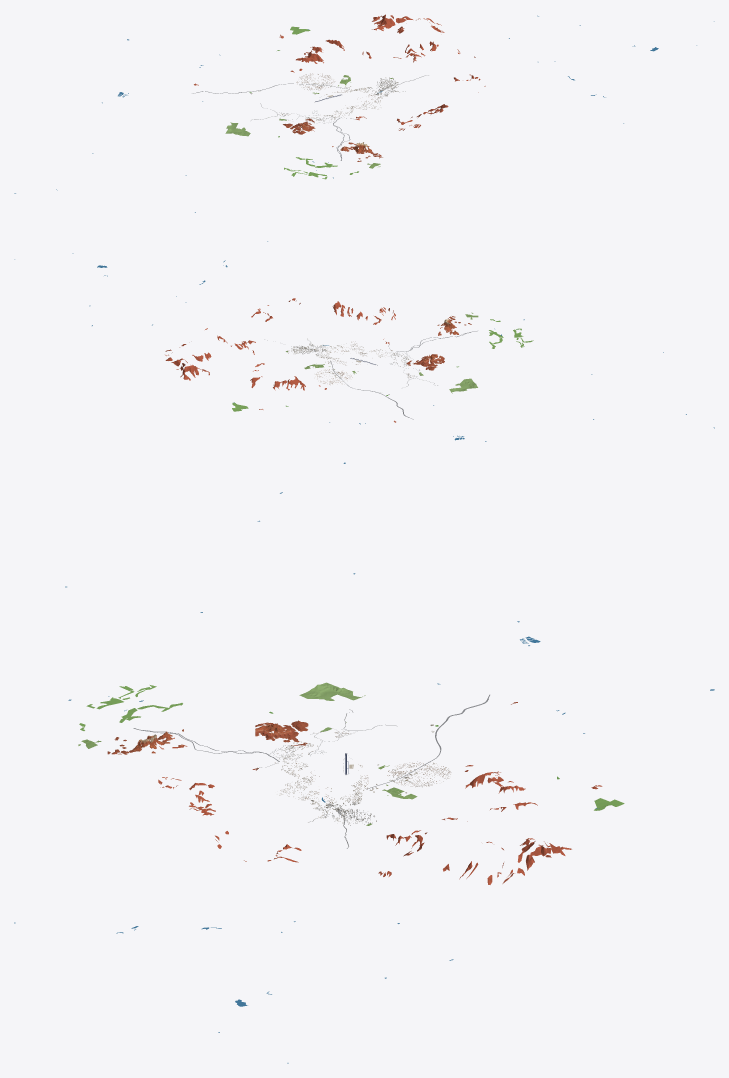
The model's file is land.glb.
3 views of the same model, one above another, from view 1: azimuth 30°, elevation 25°; view 2: azimuth 150°, elevation 25°; view 3: azimuth 270°, elevation 25° (orthographic). The views are drawn at different scales.
Visible parts, largest first — view 1: decal-area-rock, buildings, decal-area-green, buildings-1, decal-roads; view 2: decal-area-rock, buildings, decal-area-green, buildings-1; view 3: decal-area-rock, buildings, decal-area-green, buildings-1.
Part boxes in pixels (box(x1,y1,x2,y2)): decal-area-rock: box(194, 14, 485, 148); buildings: box(250, 74, 382, 161); decal-area-green: box(225, 26, 393, 179); buildings-1: box(308, 73, 398, 109); decal-roads: box(192, 75, 428, 160); decal-area-rock: box(165, 298, 450, 422); buildings: box(323, 316, 471, 394); decal-area-green: box(232, 312, 533, 411); buildings-1: box(285, 341, 366, 383); decal-area-rock: box(155, 702, 602, 884); buildings: box(107, 720, 451, 778); decal-area-green: box(78, 682, 624, 825); buildings-1: box(275, 774, 450, 825).
Size of the model in its own units: 132671 by 2916 by 68763.
